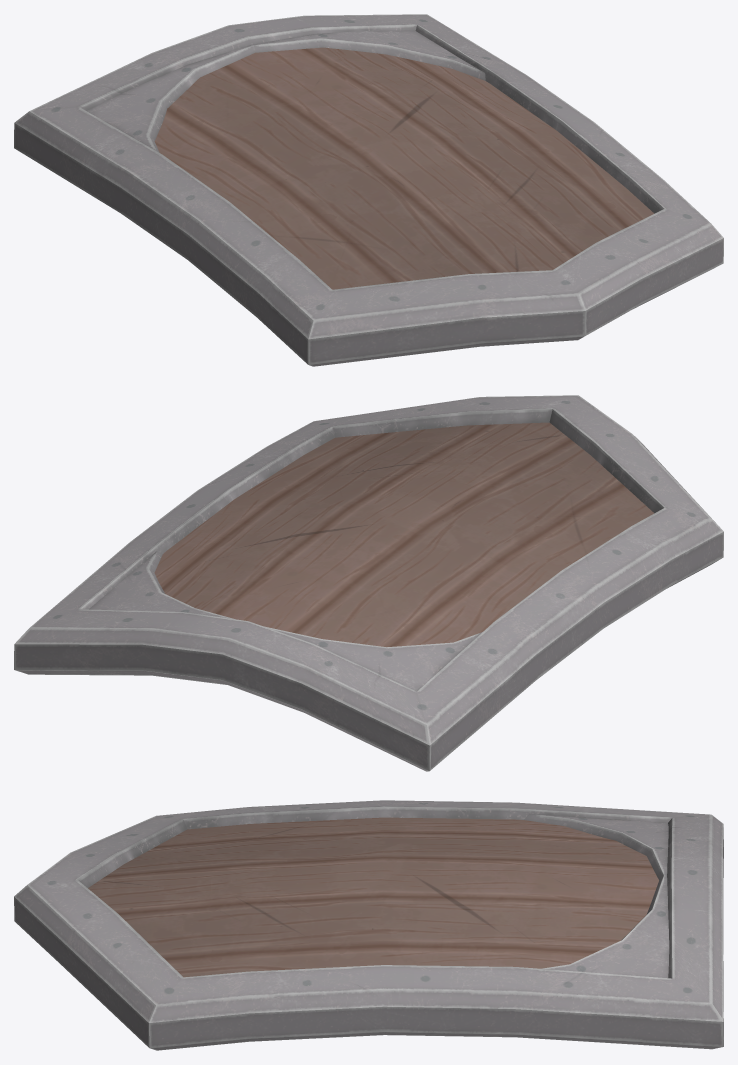
3 renders of one model, top to bottom at view 1: azimuth 30°, elevation 25°; view 2: azimuth 150°, elevation 25°; view 3: azimuth 270°, elevation 25°, orthographic. The views are drawn at different scales.
Parts seen in each view (by area): view 1: submesh_0; view 2: submesh_0; view 3: submesh_0.
Part boxes in pixels (box(x1,y1,x2,y2)): submesh_0: box(14, 14, 723, 366); submesh_0: box(14, 395, 723, 771); submesh_0: box(14, 800, 723, 1050).
Size of the model in its own units: 0.6841 by 0.1386 by 1.04.
1 material, 1 textured.
